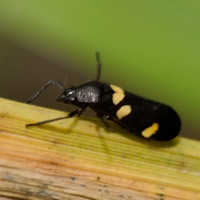insect: (26, 52, 180, 140)
